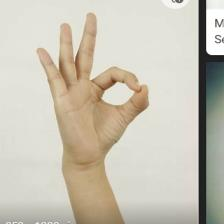five: (35, 11, 153, 176)
